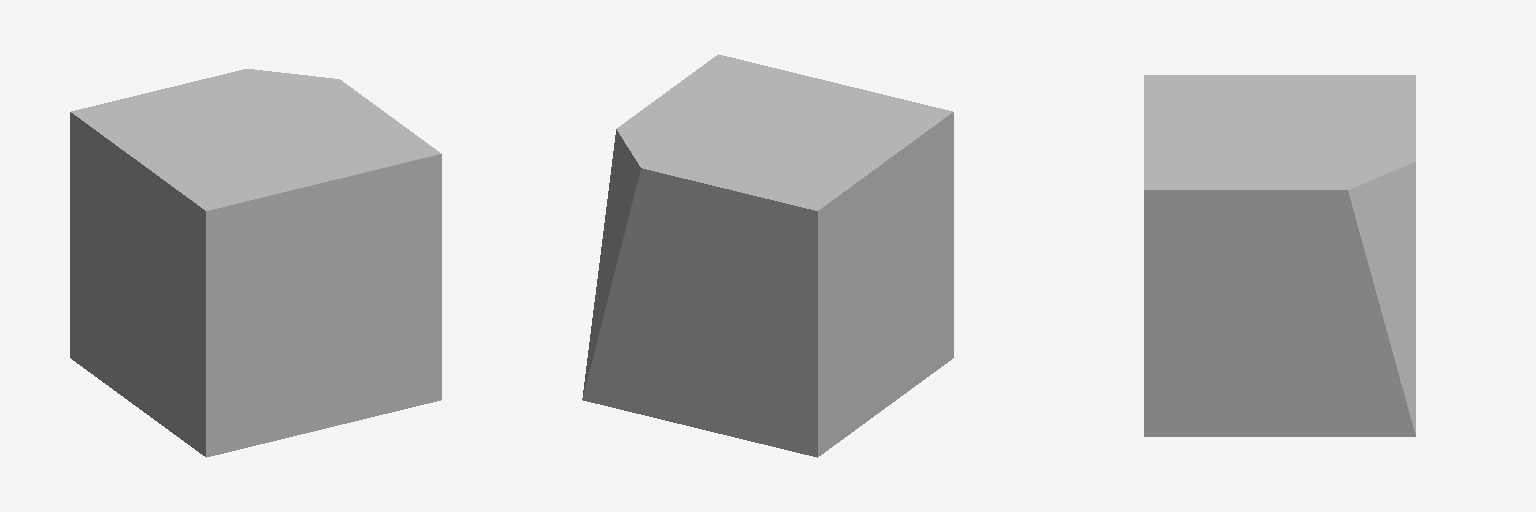
The model's file is bevelled_corner_c1.obj.
3 renders of one model, left to right at view 1: azimuth 30°, elevation 25°; view 2: azimuth 150°, elevation 25°; view 3: azimuth 270°, elevation 25°, orthographic.
Parts seen in each view (by area): view 1: bevelledcornerc1_face0-texture:1_Bevelled_Corner_C1; view 2: bevelledcornerc1_face0-texture:1_Bevelled_Corner_C1, bevelledcornerc1_face1-texture:2_Bevelled_Corner_C1.001; view 3: bevelledcornerc1_face0-texture:1_Bevelled_Corner_C1, bevelledcornerc1_face1-texture:2_Bevelled_Corner_C1.001.
Part boxes in pixels (left/top/right/bottom): bevelledcornerc1_face0-texture:1_Bevelled_Corner_C1: left=70, top=69, right=441, bottom=457; bevelledcornerc1_face0-texture:1_Bevelled_Corner_C1: left=582, top=54, right=953, bottom=457; bevelledcornerc1_face1-texture:2_Bevelled_Corner_C1.001: left=582, top=129, right=640, bottom=398; bevelledcornerc1_face0-texture:1_Bevelled_Corner_C1: left=1144, top=75, right=1415, bottom=436; bevelledcornerc1_face1-texture:2_Bevelled_Corner_C1.001: left=1348, top=162, right=1415, bottom=434.
Size of the model in its own units: 1 by 1 by 1.